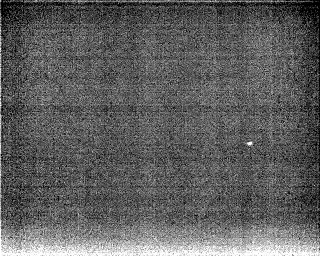AIRPLANE: (245, 138, 255, 149)
